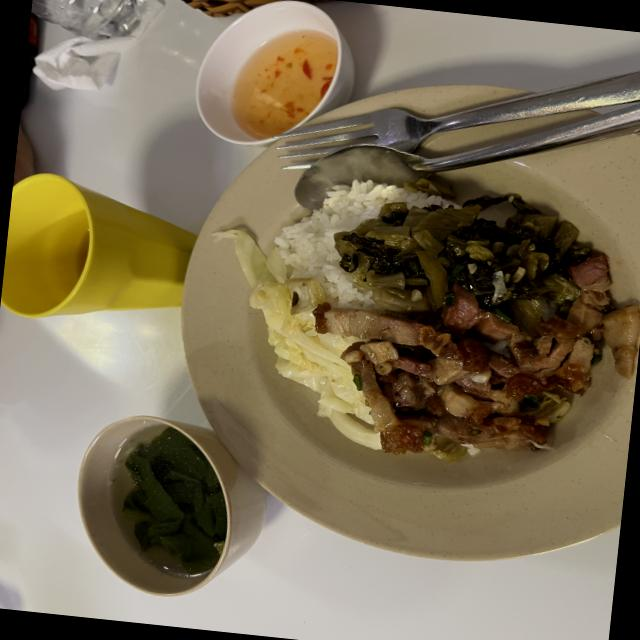canh cai: (120, 426, 227, 584)
com: (274, 180, 443, 304)
nuoc mam: (232, 31, 337, 139)
rau: (211, 231, 379, 450)
